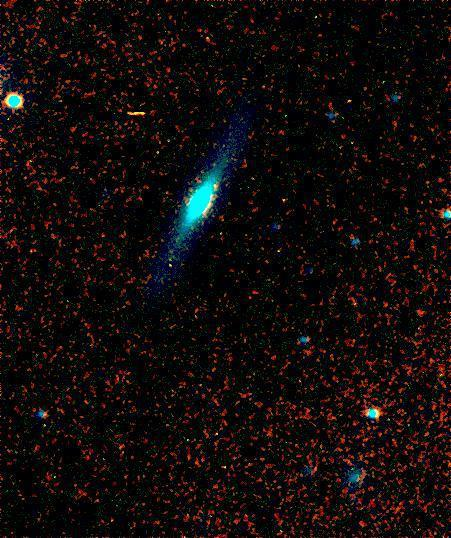star: (200, 170, 230, 200)
